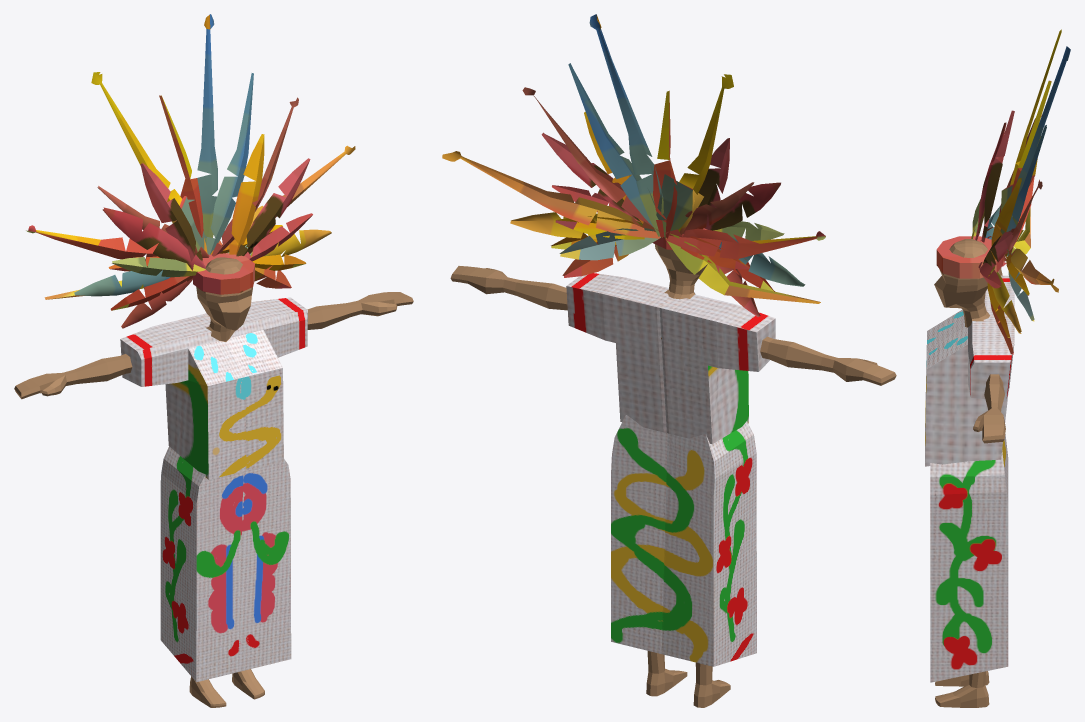
File: danzanteMujer.obj
The picture shows the model from 3 angles, left to right: view 1: azimuth 30°, elevation 25°; view 2: azimuth 150°, elevation 25°; view 3: azimuth 270°, elevation 25°; orthographic projection. The views are drawn at different scales.
Parts seen in each view (by area): view 1: Female; view 2: Female; view 3: Female.
Boxes of the visible parts, <box> form: Female: <box>14,14,413,707</box>; Female: <box>442,14,896,707</box>; Female: <box>925,29,1070,707</box>.
Size of the model in its own units: 0.6241 by 0.9658 by 0.1922.
Materials: 3 (3 with a texture image).
